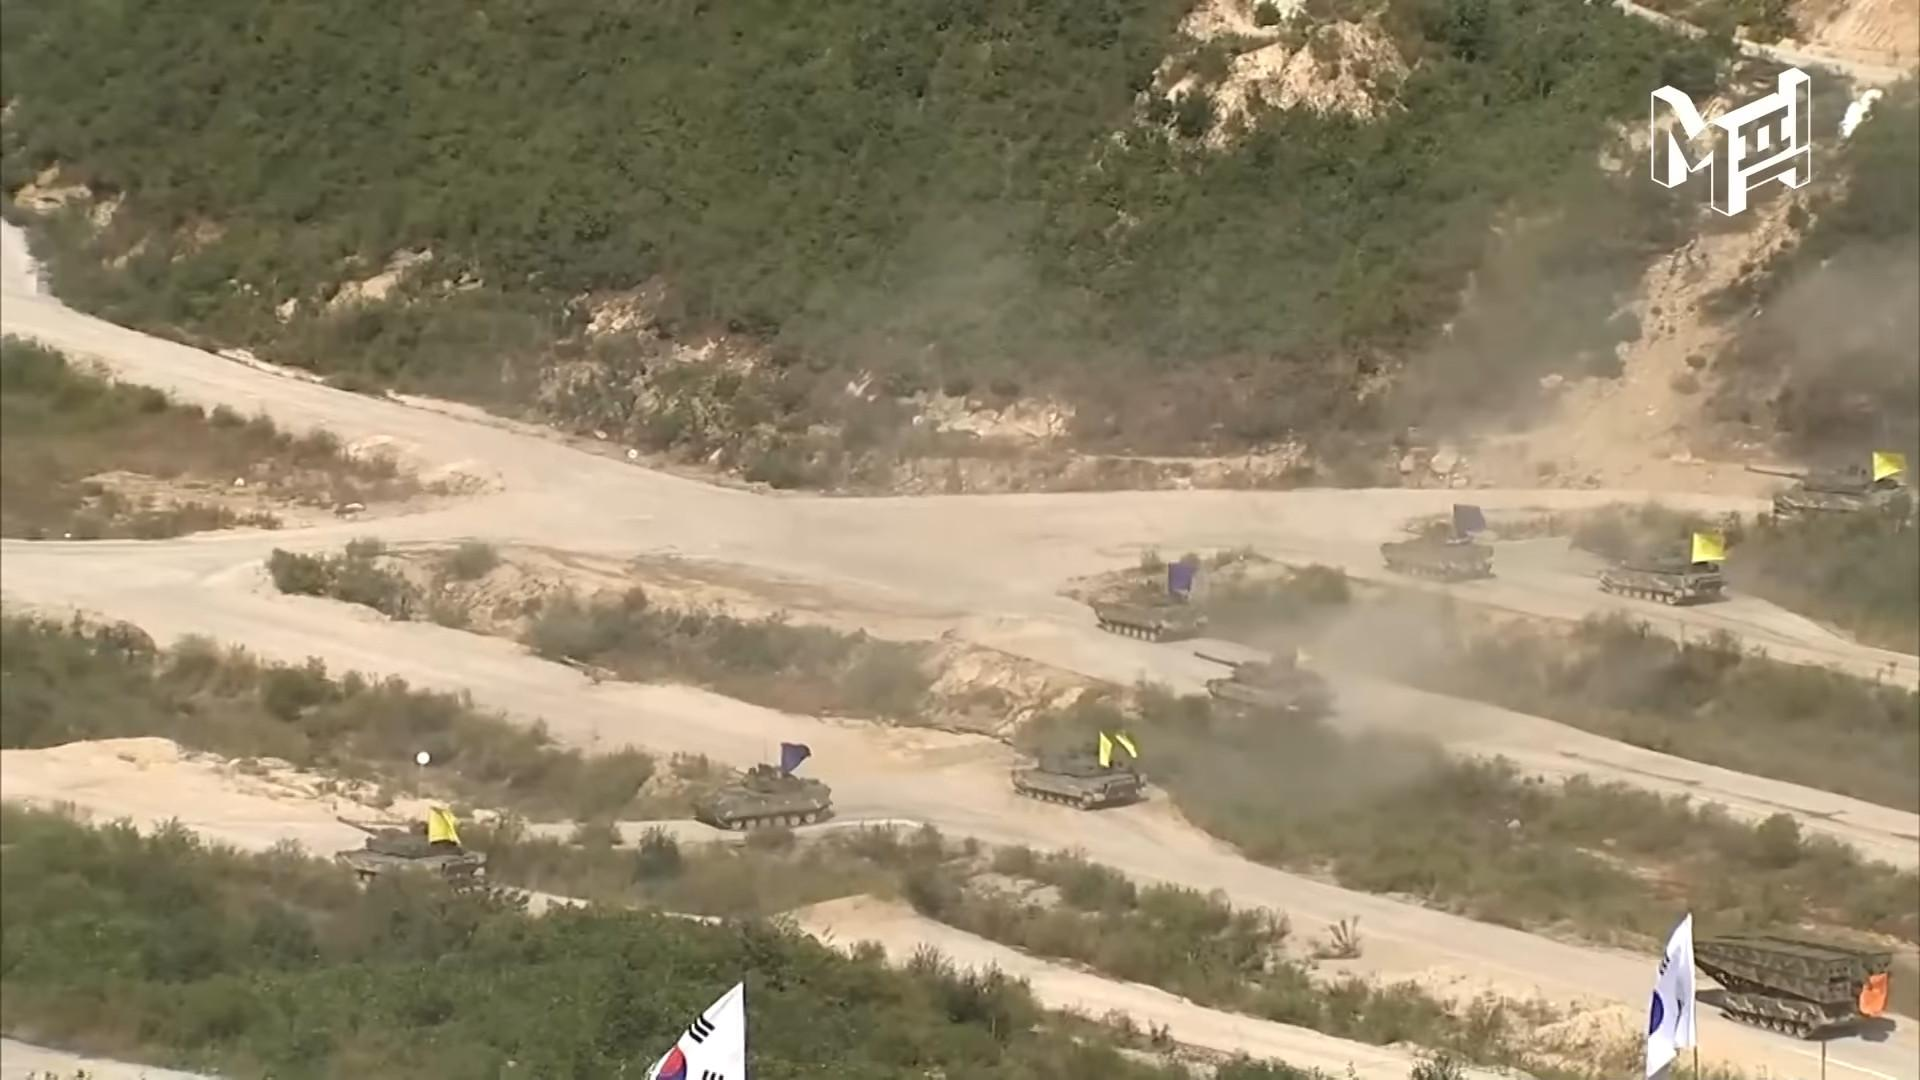tank: (334, 816, 487, 898), (1746, 463, 1915, 531), (1001, 738, 1137, 810), (1193, 653, 1335, 720), (713, 764, 832, 832), (1093, 580, 1208, 642), (1600, 550, 1727, 605), (1381, 522, 1493, 580)
